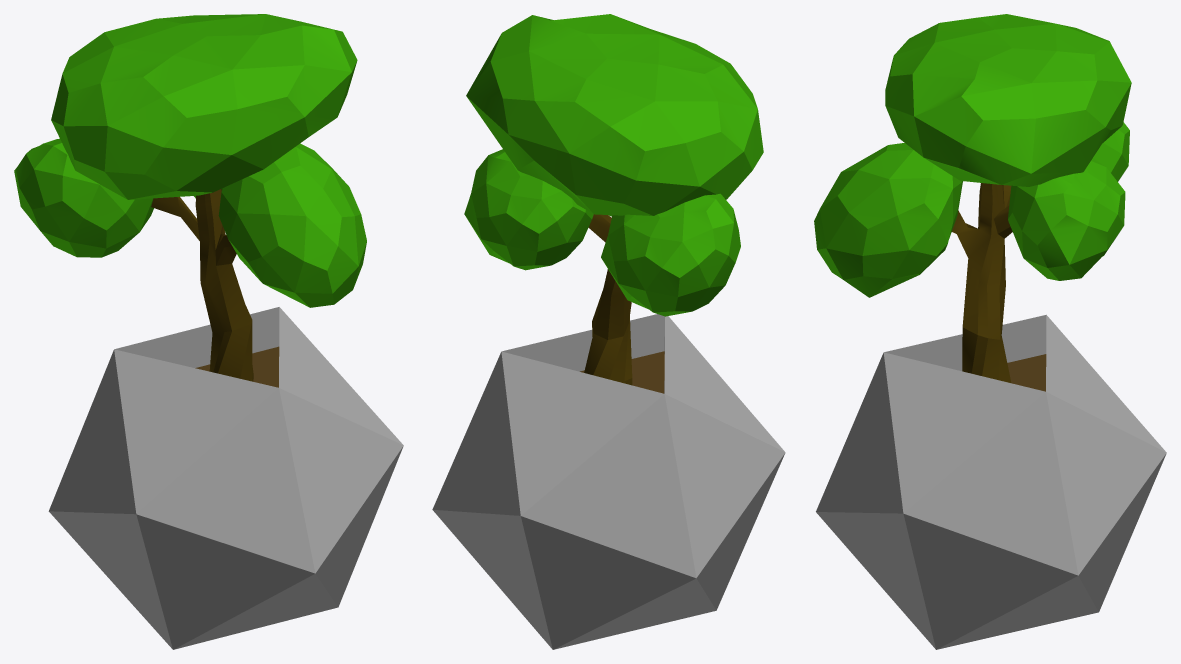
The model's file is Planter2.fbx.
3 renders of one model, left to right at view 1: azimuth 30°, elevation 25°; view 2: azimuth 150°, elevation 25°; view 3: azimuth 270°, elevation 25°, orthographic.
Visible parts, largest first — view 1: Plant7; view 2: Plant7; view 3: Plant7.
Boxes of the visible parts, <box> form: Plant7: <box>14,14,403,649</box>; Plant7: <box>432,14,785,649</box>; Plant7: <box>814,14,1166,649</box>.
Bounding box in the file's own units: 1.1 × 2.03 × 1.15.
